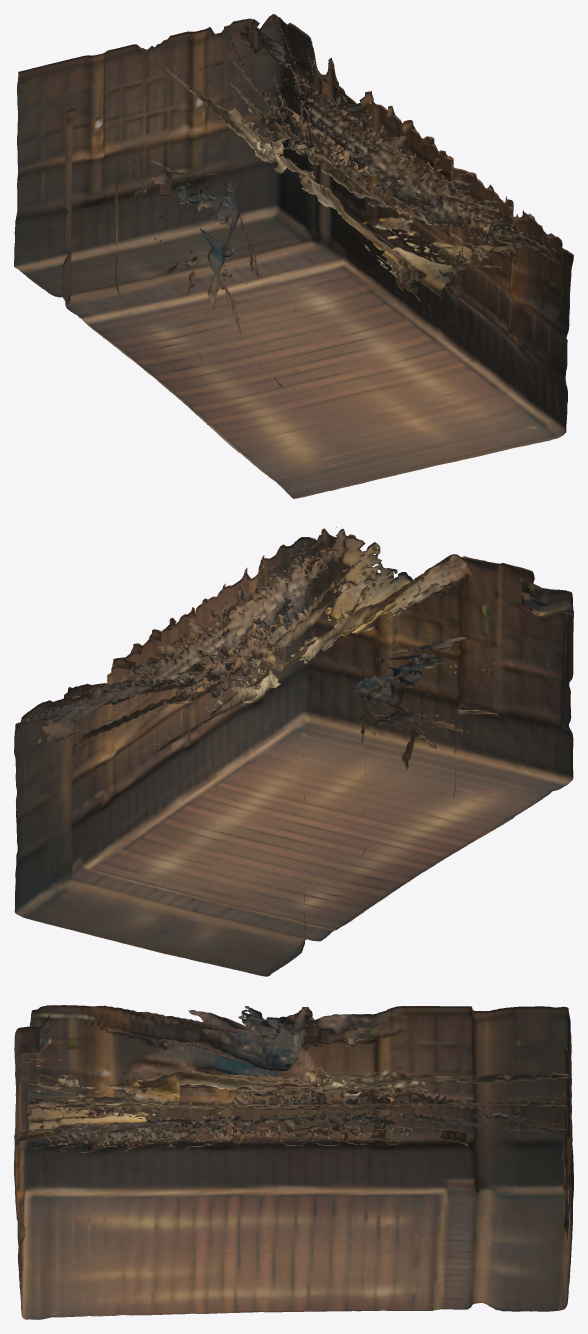
The model's file is collider.glb.
3 views of the same model, one above another, from view 1: azimuth 30°, elevation 25°; view 2: azimuth 150°, elevation 25°; view 3: azimuth 270°, elevation 25° (orthographic). The views are drawn at different scales.
Parts seen in each view (by area): view 1: world; view 2: world; view 3: world.
Part boxes in pixels (x1,y1,x2,y2): world: (14, 14, 573, 498); world: (14, 527, 573, 976); world: (14, 1005, 573, 1319).
Size of the model in its own units: 3.47 by 2.49 by 6.27.
